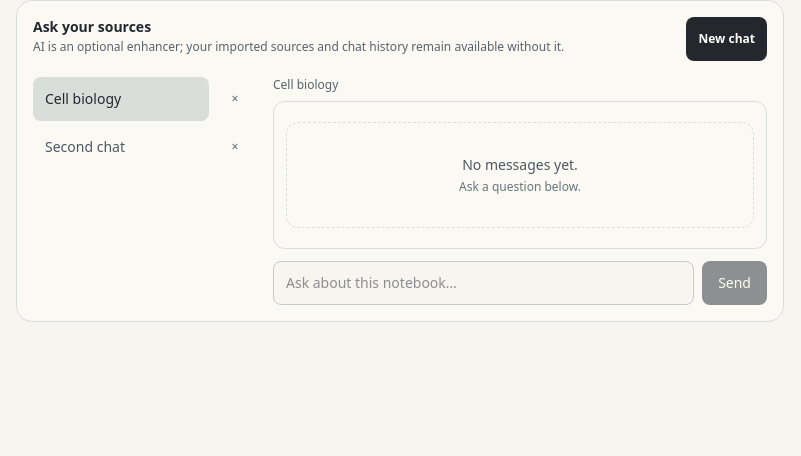
Test: ChatPanel sessions › does not leak a late answer into a newly selected session
This screenshot has width=801, height=456.
Expected: the button "Cell biology" is shown, [33,77,209,121]
Type "Late question" into the field. click: (484, 283)
box: [273,261,694,305]
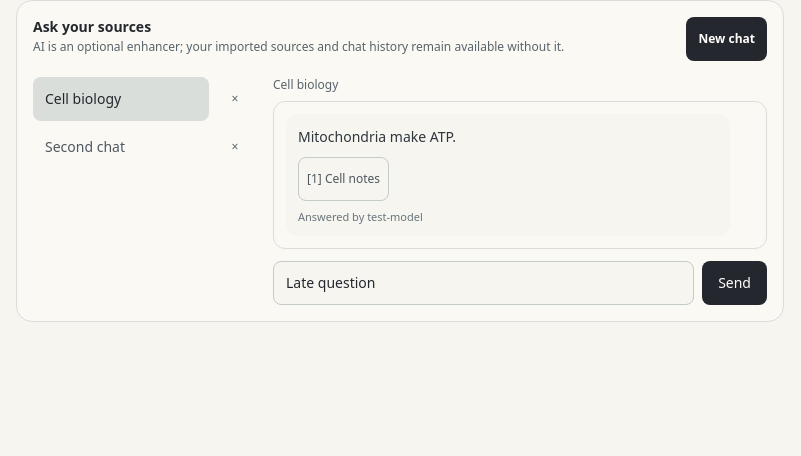
Click the button "Send". click: (735, 284)
box: [702,262,767,306]
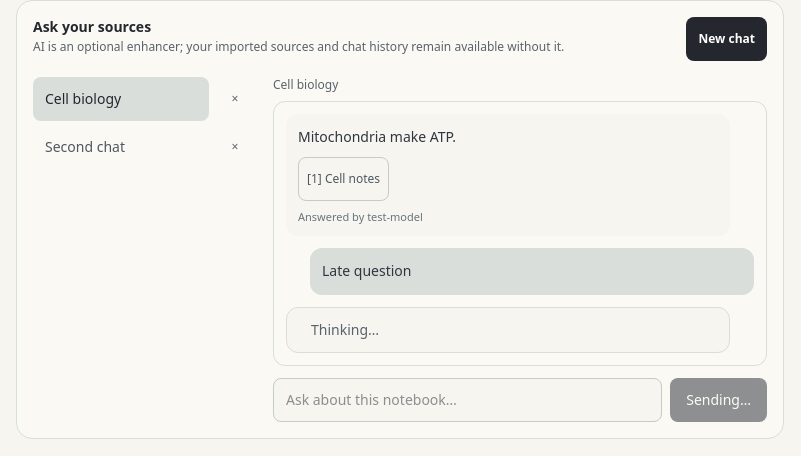
Click the button "Second chat". click: (121, 147)
box: [33,125,209,169]
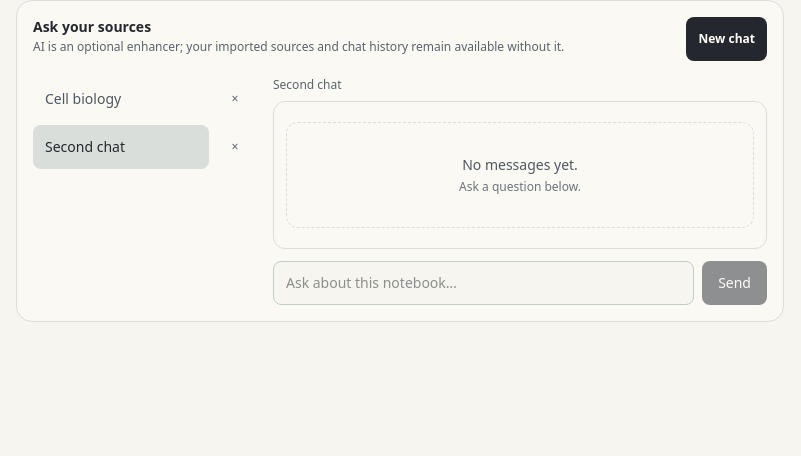
Now the text "Mitochondria make ATP." is gone
Now the text "Late question" is gone
